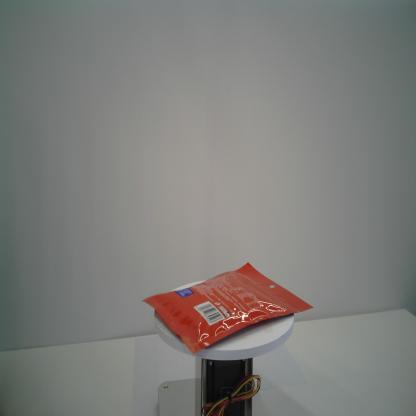Dried Fruit: (140, 261, 312, 356)
